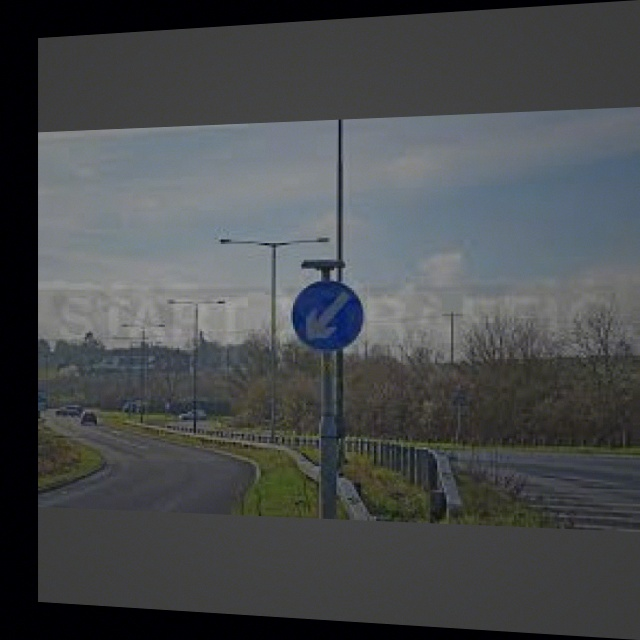Compulsory_Keep_Left: (292, 276, 363, 354)
